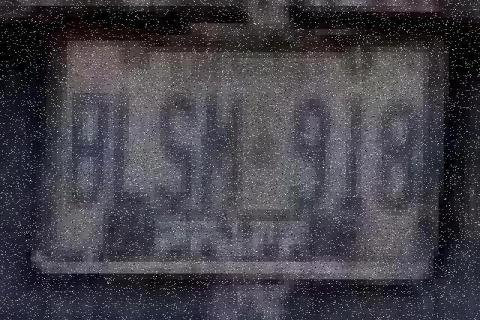LicensePlate: (33, 26, 455, 298)
